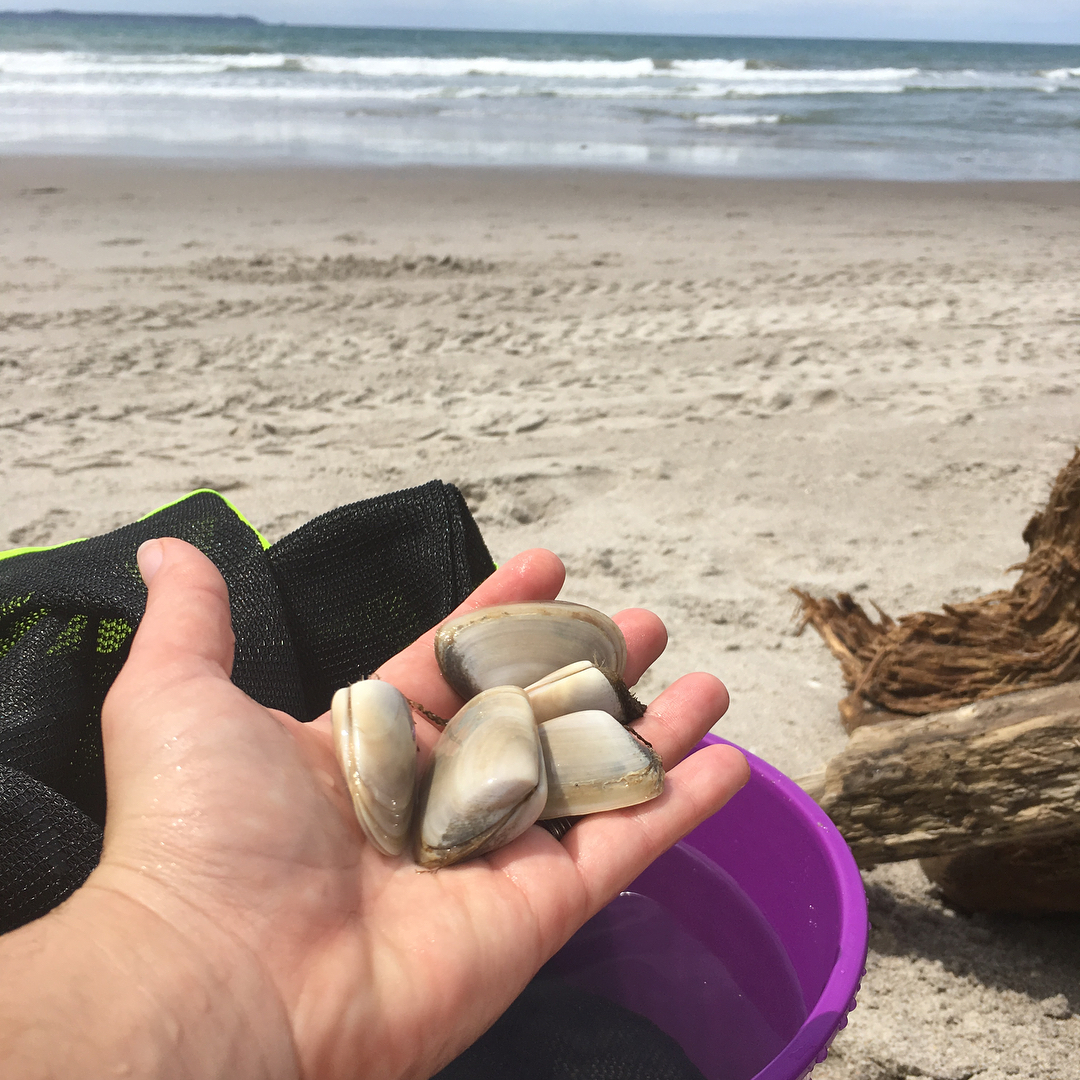tuatua: (414, 681, 555, 870), (433, 596, 629, 694), (326, 677, 415, 864), (539, 708, 670, 822), (519, 658, 656, 730)
